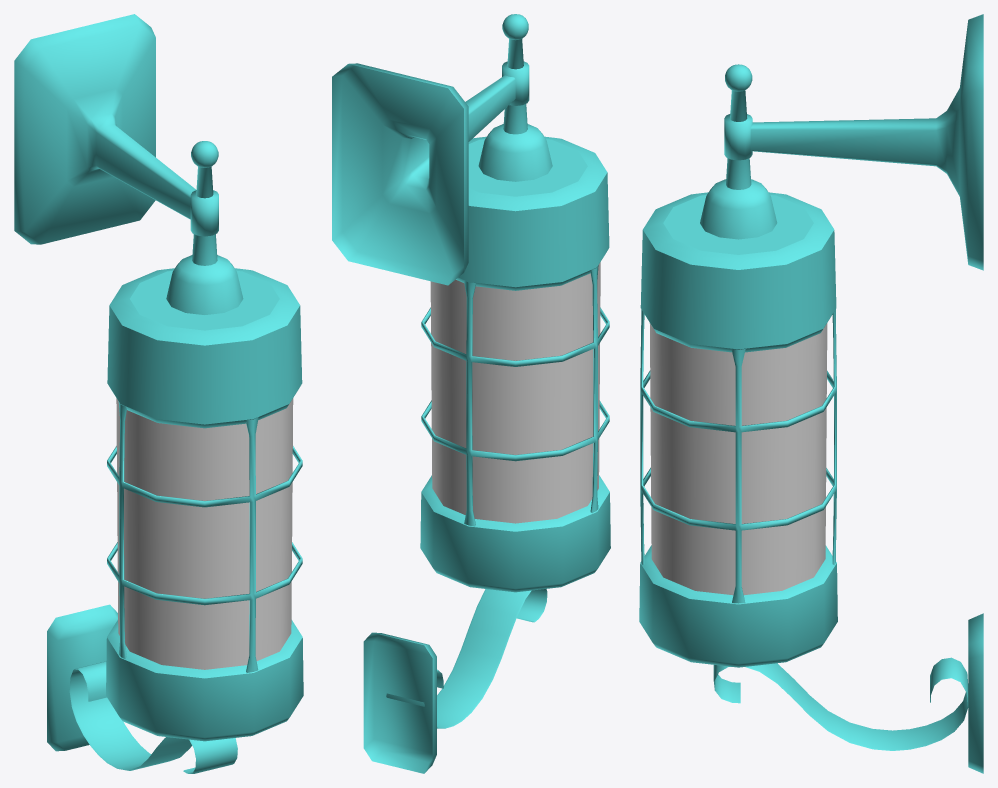
Rendered from wall-lamp.fbx.
3 views of the same model, side by side, from view 1: azimuth 30°, elevation 25°; view 2: azimuth 150°, elevation 25°; view 3: azimuth 270°, elevation 25° (orthographic). The views are drawn at different scales.
Visible parts, largest first — view 1: WallSconce02; view 2: WallSconce02; view 3: WallSconce02.
Boxes of the visible parts, x1,y1,x2,y2 form: WallSconce02: (14,14,303,773); WallSconce02: (332,14,610,773); WallSconce02: (639,14,983,773).
Bounding box in the file's own units: 80.73 × 323 × 140.
